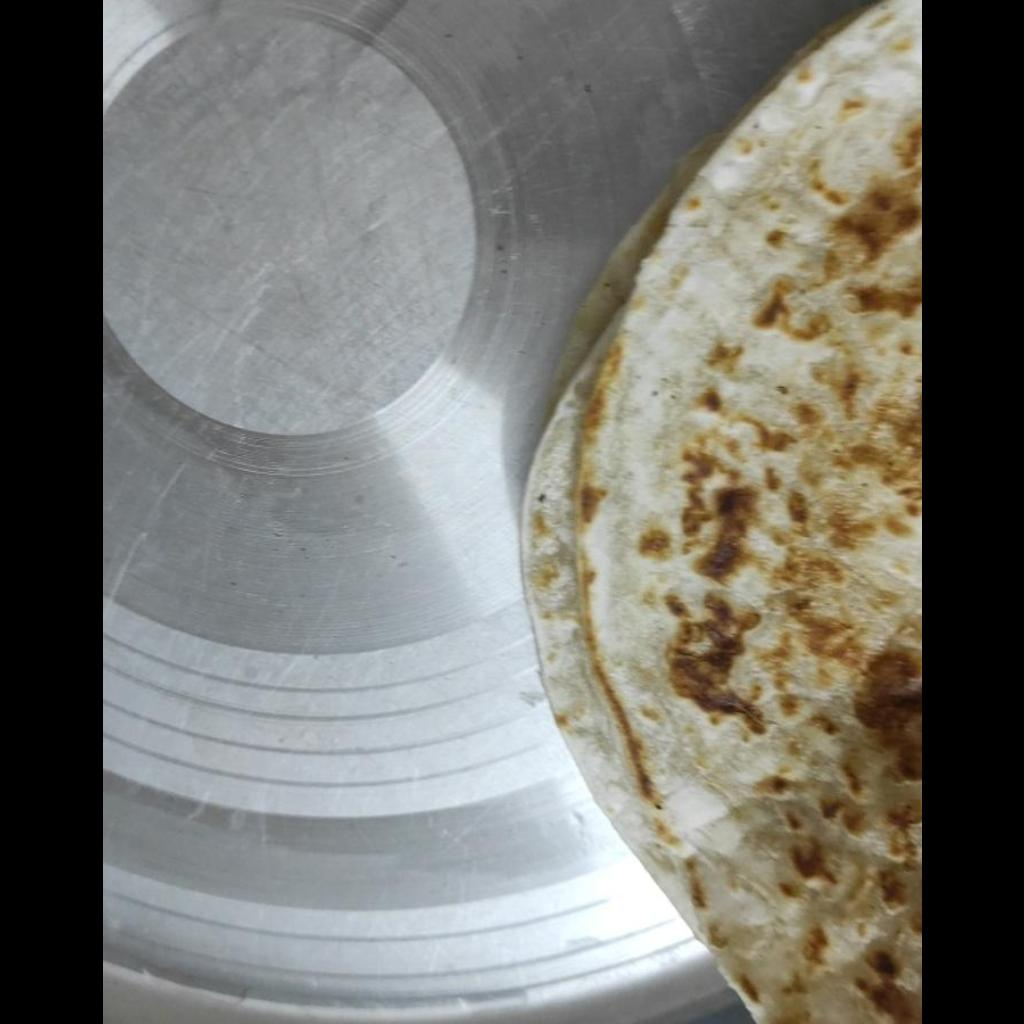ruti: (517, 0, 920, 1022)
